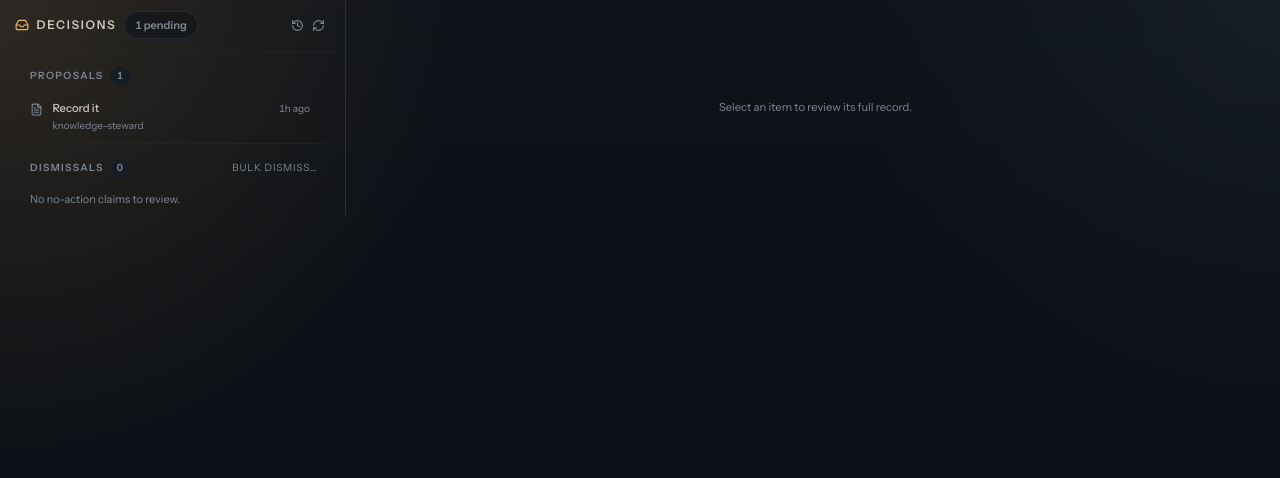
Test: DecisionsView proposal pane › renders a mail.create_rule proposal with its description, queued count and a sample
This screenshot has width=1280, height=478.
Click the text "Record it": x=76, y=108 [52,101,99,115]
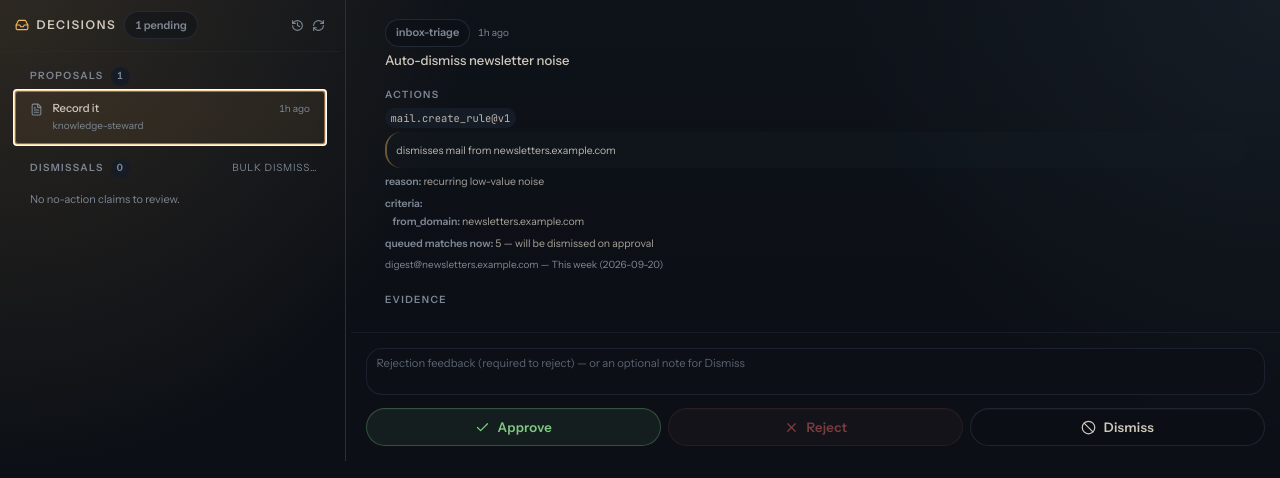
Expected: the text "dismisses mail from newsletters.example.com" is shown, [385,132,1246,168]
Expected: the text "queued matches now: 5 — will be dismissed on approval" is shown, [385,236,654,250]
Expected: the list item "digest@newsletters.example.com — This week (2026-09-20)" is shown, [385,258,663,271]
